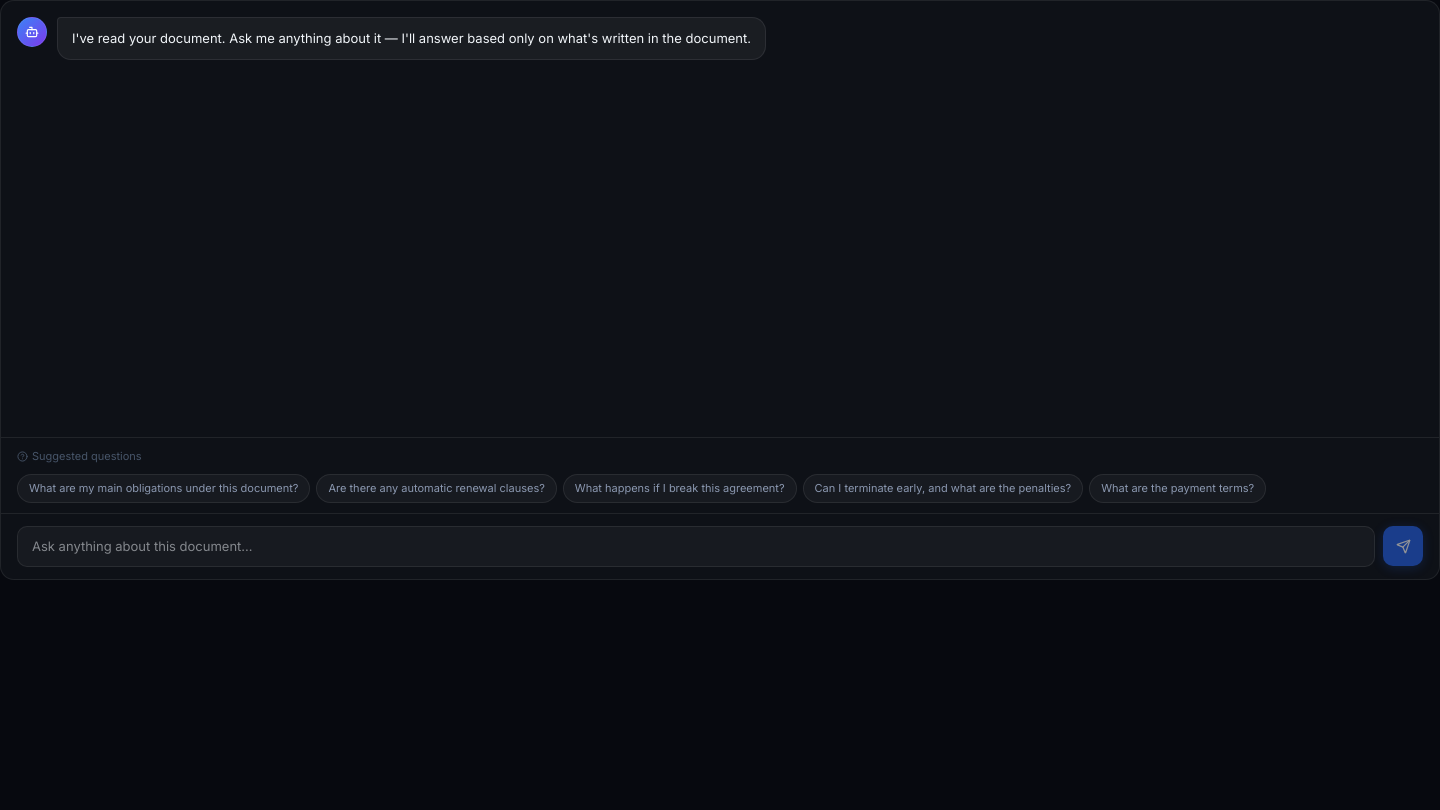
Test case: ChatInterface › displays user message in the chat
Type "What is the term?" into the field with placeholder "Ask anything about this document…" at (696, 547), box x1=17 y1=526 x2=1375 y2=567
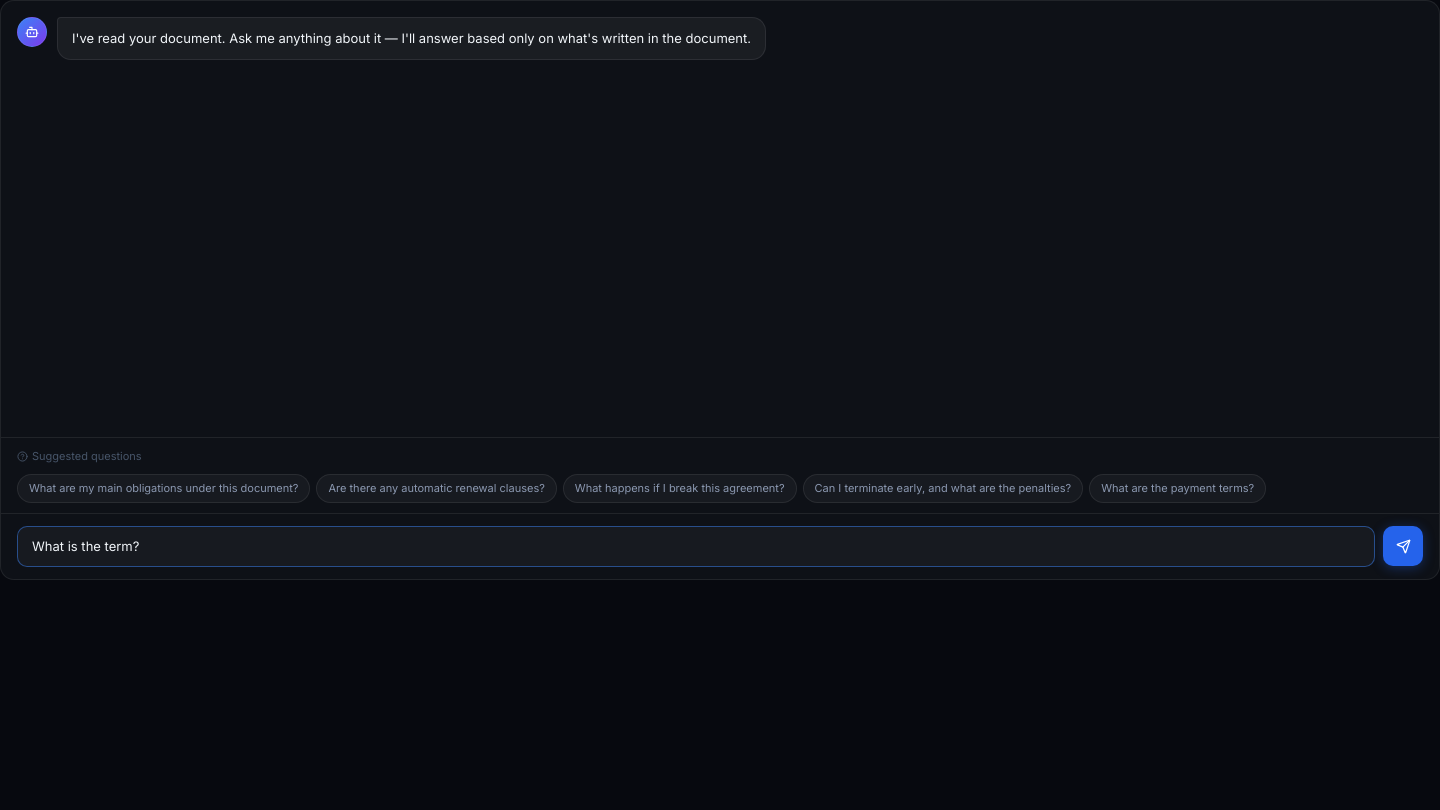
Click the button named "Send question" at (1403, 546), box x1=1383 y1=526 x2=1423 y2=566
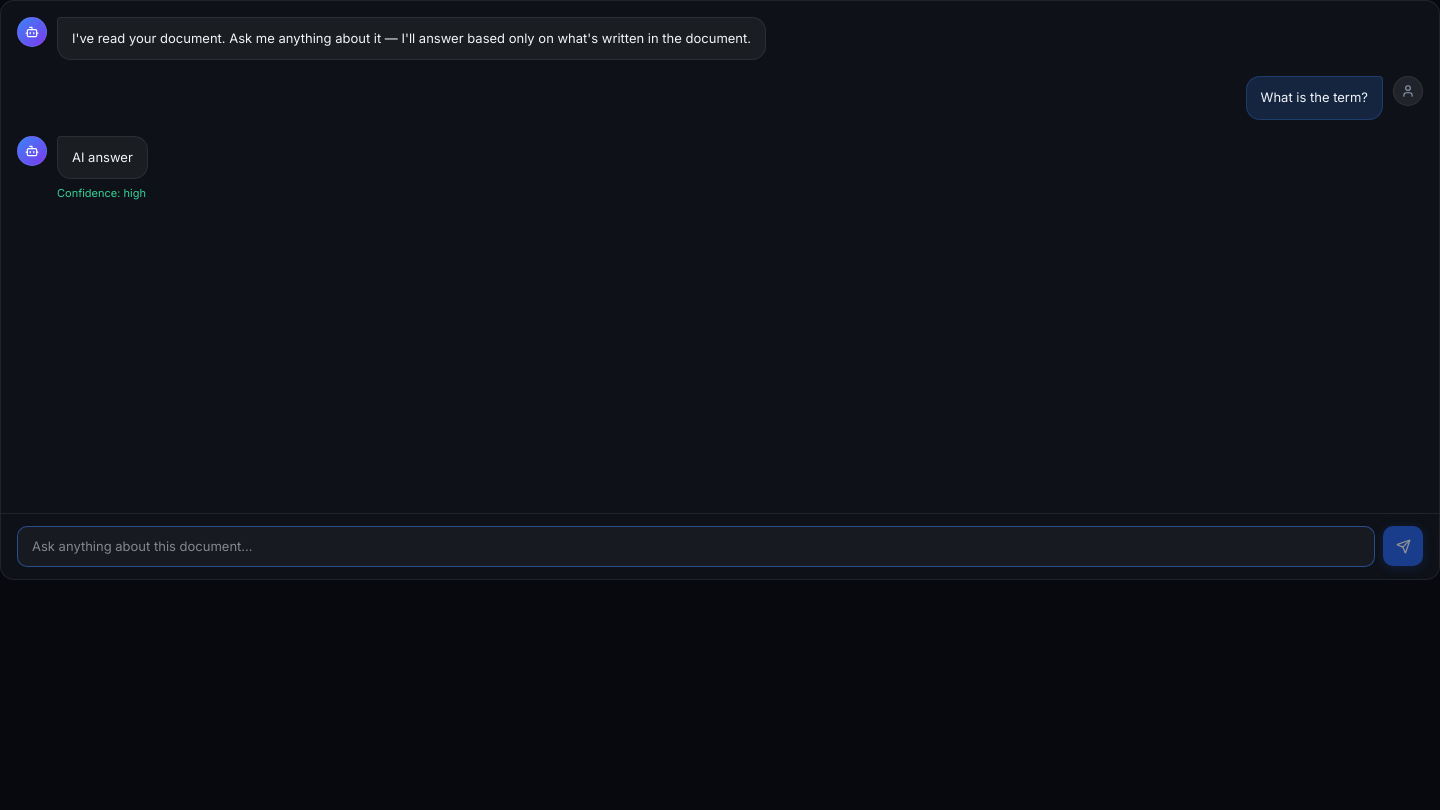
Now the text "What is the term?" is shown, box x1=1246 y1=76 x2=1383 y2=120
